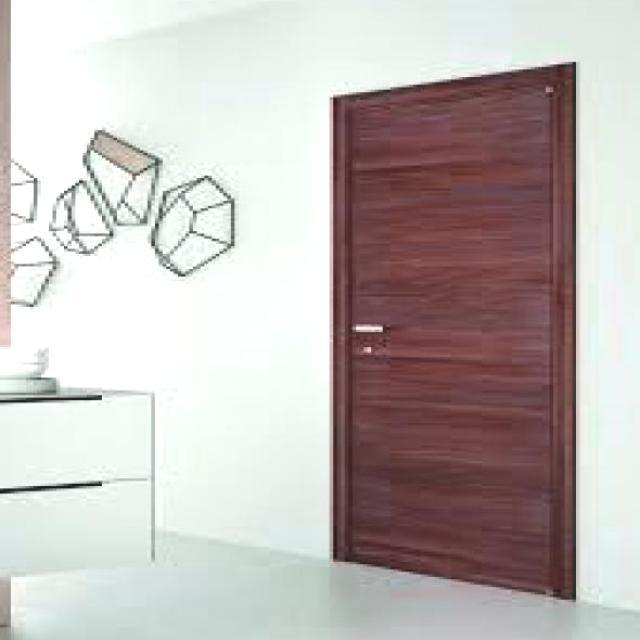door: (329, 61, 576, 598)
